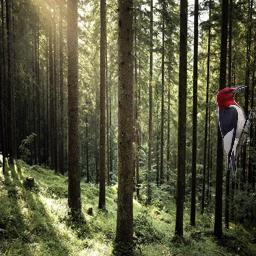Woodpecker: (216, 85, 255, 179)
